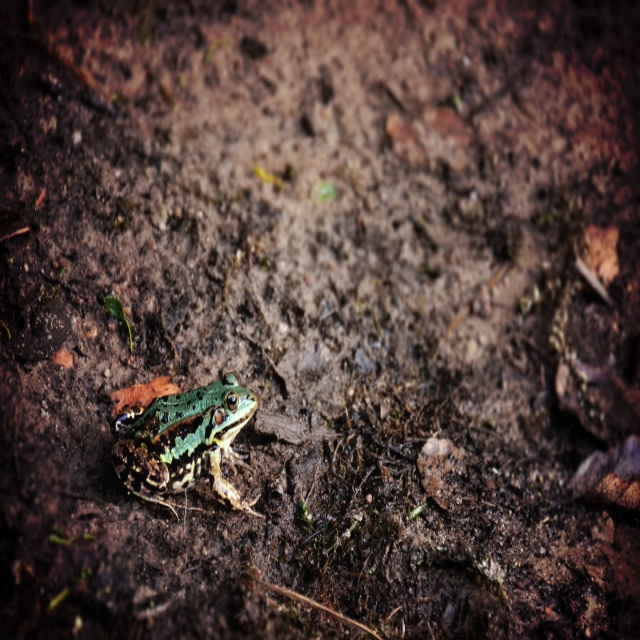Frog: (113, 372, 264, 518)
